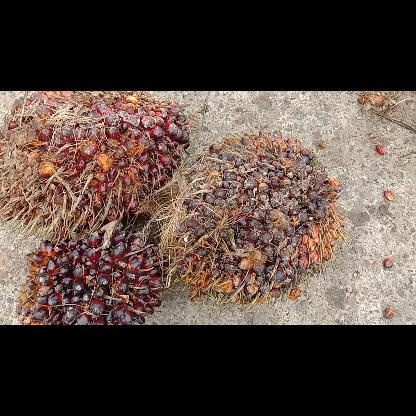Kurang masak: (174, 131, 344, 306), (15, 224, 167, 324)
TBS masak: (0, 91, 192, 235)
